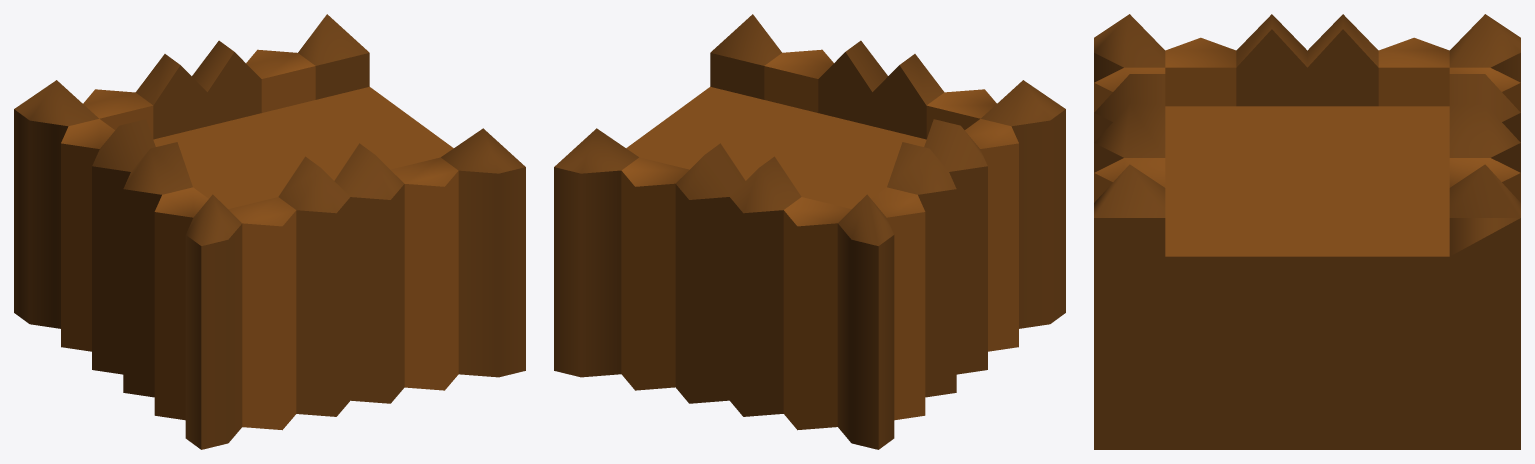
File: 1x1x5_threesided_wood.fbx
The picture shows the model from 3 angles, left to right: view 1: azimuth 30°, elevation 25°; view 2: azimuth 150°, elevation 25°; view 3: azimuth 270°, elevation 25°; orthographic projection. The views are drawn at different scales.
Visible parts, largest first — view 1: polySurface1; view 2: polySurface1; view 3: polySurface1.
Boxes of the visible parts, left/top/right/bottom form: polySurface1: left=14, top=14, right=525, bottom=449; polySurface1: left=554, top=14, right=1065, bottom=449; polySurface1: left=1094, top=14, right=1520, bottom=449.
Bounding box in the file's own units: 100 × 70 × 100.
1 material, 1 textured.
